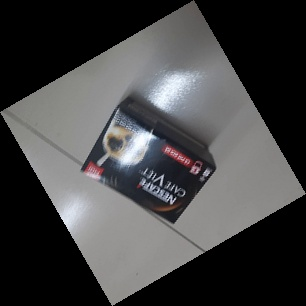CF Viet: (80, 97, 218, 225)
